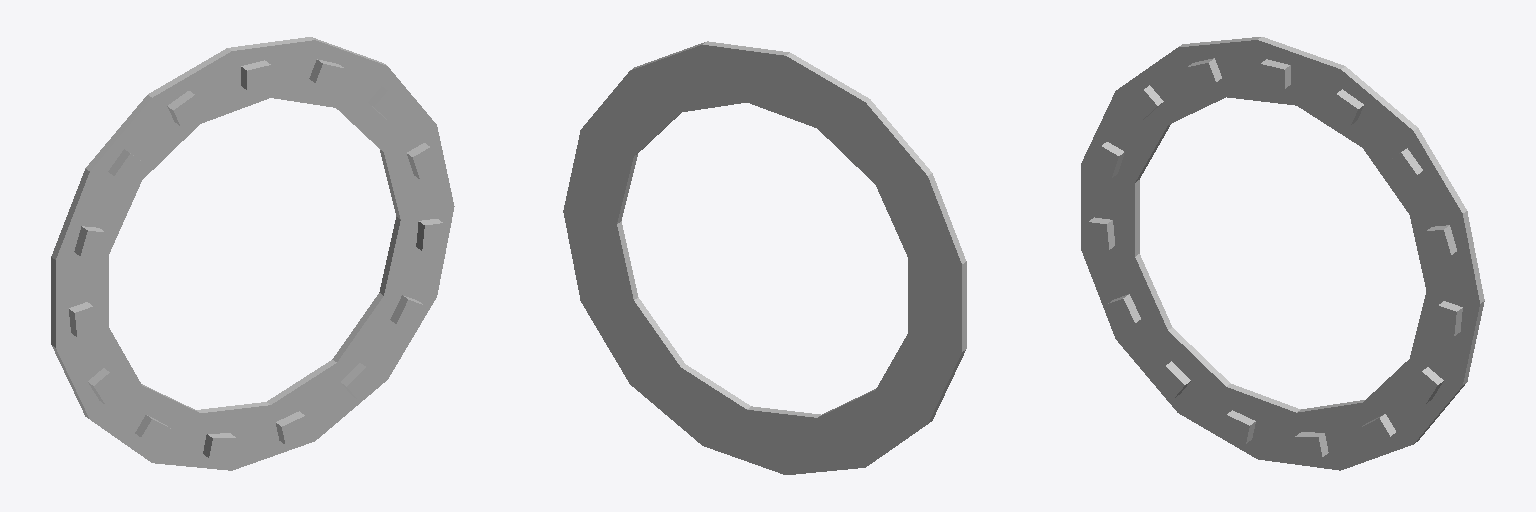
The model's file is AndyMarkLightRing2018.obj.
3 renders of one model, left to right at view 1: azimuth 30°, elevation 25°; view 2: azimuth 150°, elevation 25°; view 3: azimuth 330°, elevation 25°, orthographic.
Parts seen in each view (by area): view 1: Solid1; view 2: Solid1; view 3: Solid1.
Boxes of the visible parts, x1,y1,x2,y2 form: Solid1: [51, 37, 454, 470]; Solid1: [563, 41, 966, 474]; Solid1: [1081, 37, 1484, 470].
Size of the model in its own units: 59.34 by 59.67 by 2.77.